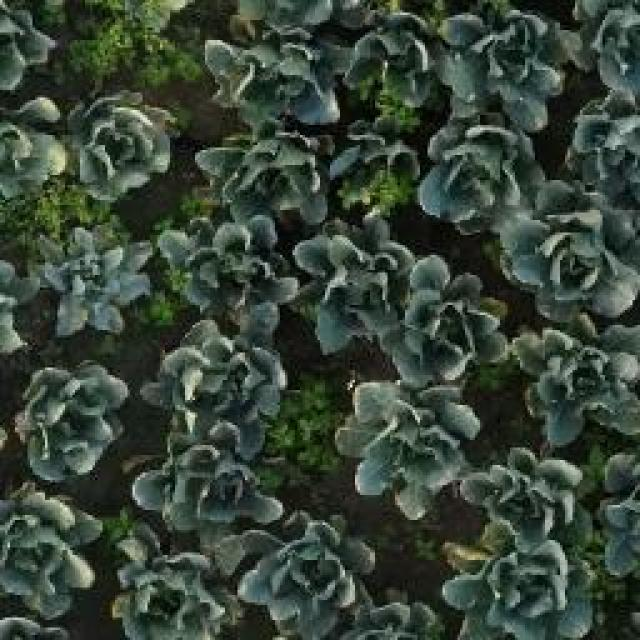cabbage: (332, 384, 478, 506), (395, 253, 518, 387), (153, 324, 290, 443), (239, 517, 376, 636), (300, 217, 419, 353), (515, 312, 640, 440), (505, 190, 640, 305), (160, 221, 302, 327), (202, 17, 339, 122), (134, 436, 284, 529), (190, 130, 334, 226), (444, 9, 579, 110), (448, 547, 593, 640), (107, 531, 229, 640), (422, 115, 532, 233), (18, 367, 126, 485), (464, 452, 594, 550), (40, 227, 155, 335), (0, 493, 99, 618), (70, 99, 174, 200), (347, 13, 438, 98), (0, 95, 65, 206), (340, 120, 420, 203), (570, 101, 640, 187)
